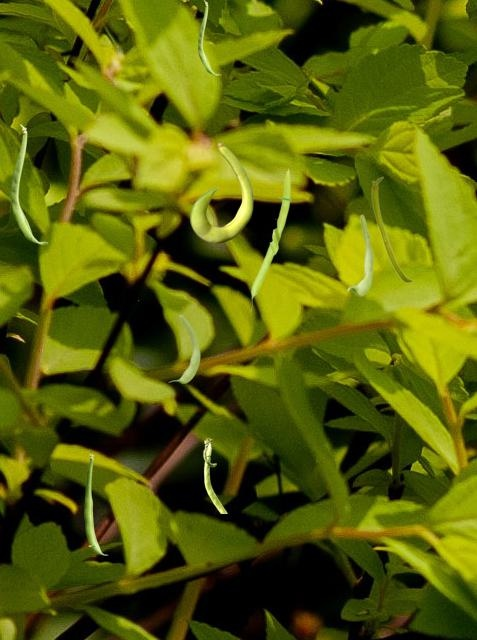french_bean: (190, 142, 252, 242), (249, 167, 291, 312), (371, 176, 412, 282), (11, 124, 47, 243), (84, 454, 107, 554), (168, 314, 199, 382), (347, 214, 372, 295), (203, 438, 226, 512), (198, 0, 220, 74)
